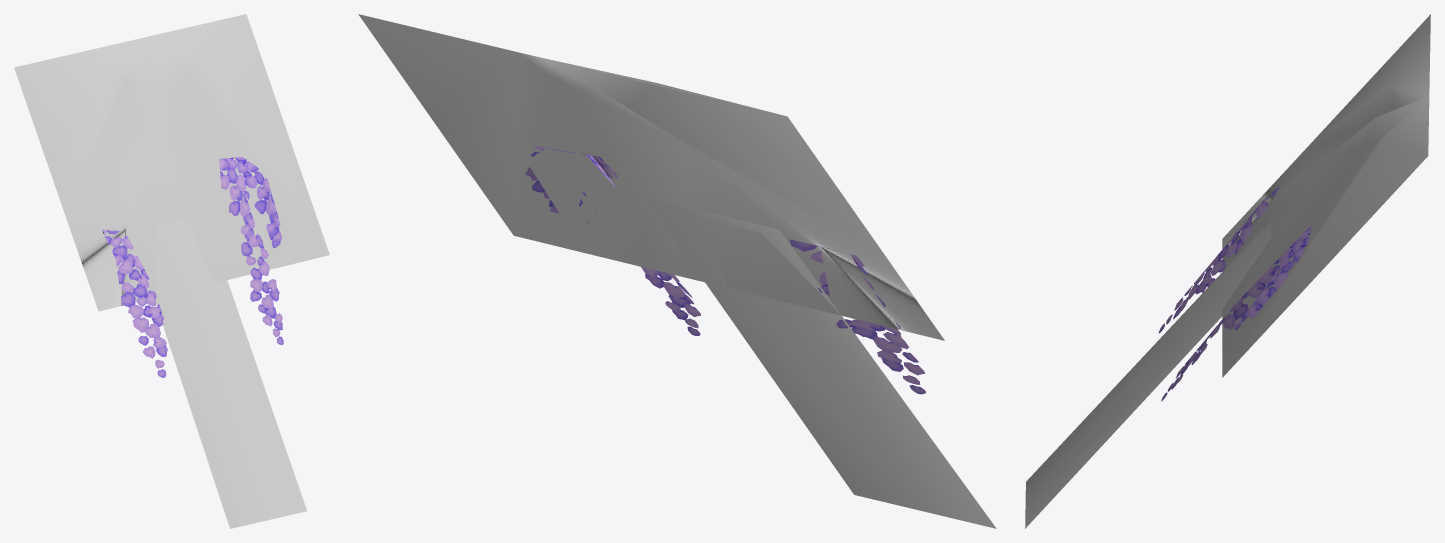
The model's file is SM_Env_Vines_Preset_Roof_Straight_02.fbx.
The picture shows the model from 3 angles, left to right: view 1: azimuth 30°, elevation 25°; view 2: azimuth 150°, elevation 25°; view 3: azimuth 270°, elevation 25°; orthographic projection. The views are drawn at different scales.
Parts seen in each view (by area): view 1: SM_Env_Vines_Preset_Roof_Straight_02; view 2: SM_Env_Vines_Preset_Roof_Straight_02; view 3: SM_Env_Vines_Preset_Roof_Straight_02.
Boxes of the visible parts, box(x1,y1,x2,y2) form: SM_Env_Vines_Preset_Roof_Straight_02: box(14, 14, 329, 528); SM_Env_Vines_Preset_Roof_Straight_02: box(358, 14, 996, 528); SM_Env_Vines_Preset_Roof_Straight_02: box(1025, 14, 1430, 528).
Size of the model in its own units: 155 by 226 by 190.
